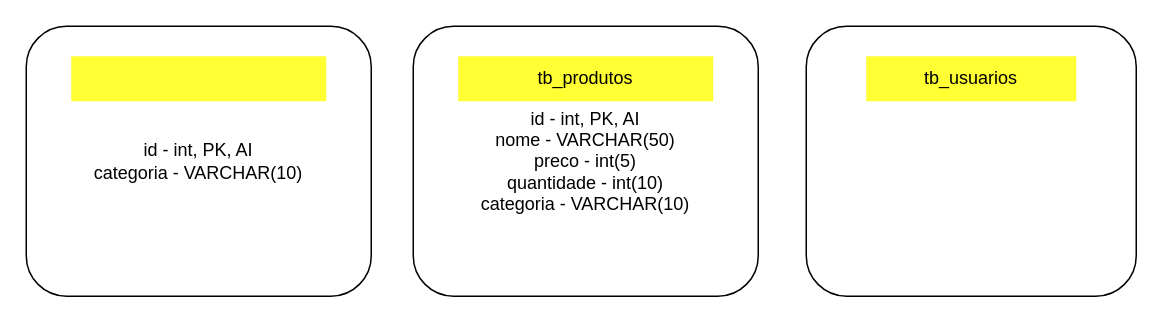
Image size: 1163x323. Some labels were removed from this diagram. Here are the shapes that lost their labels. From the top down, the box of each, then its label:
(70, 56, 326, 100): tb_categorias
(805, 25, 1136, 296): id - int, PK, AI email - varchar(50) senha - VARCHAR(15)
